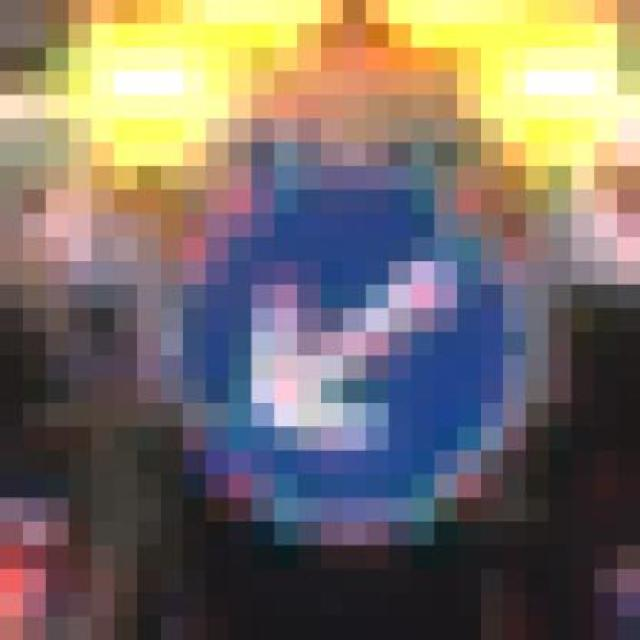Keep-Left: (160, 118, 549, 545)
